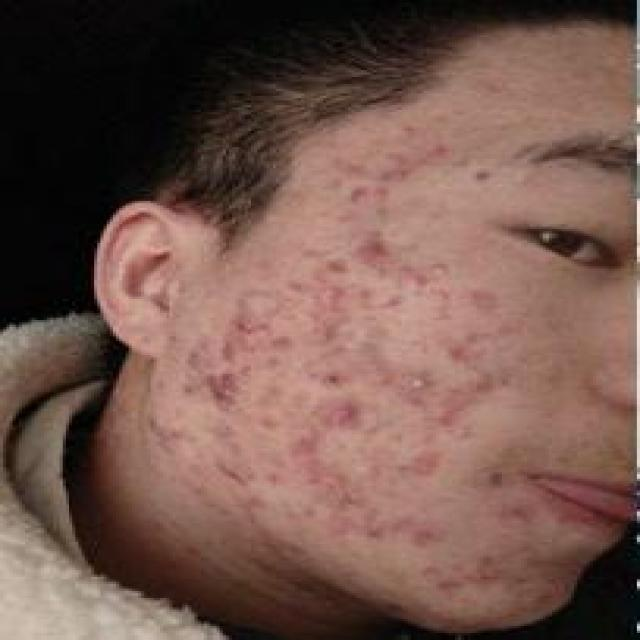Acne: (322, 144, 456, 356), (298, 469, 414, 556), (162, 328, 272, 419), (398, 97, 502, 181), (406, 542, 535, 598), (266, 272, 354, 349), (231, 421, 331, 484), (450, 363, 513, 457), (458, 291, 527, 361), (378, 354, 450, 410), (214, 494, 290, 543), (382, 427, 448, 479), (130, 422, 202, 466), (485, 470, 535, 528), (317, 374, 364, 434), (213, 294, 273, 332), (598, 60, 638, 102)
